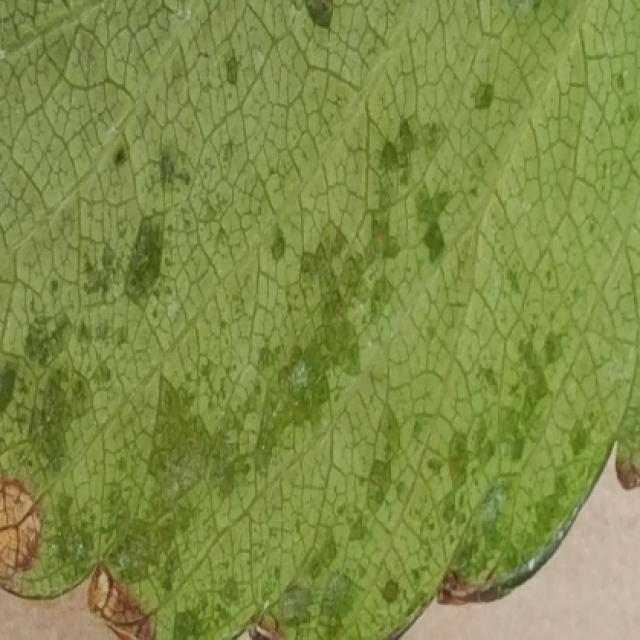Angular Leafspot: (2, 0, 640, 638)
